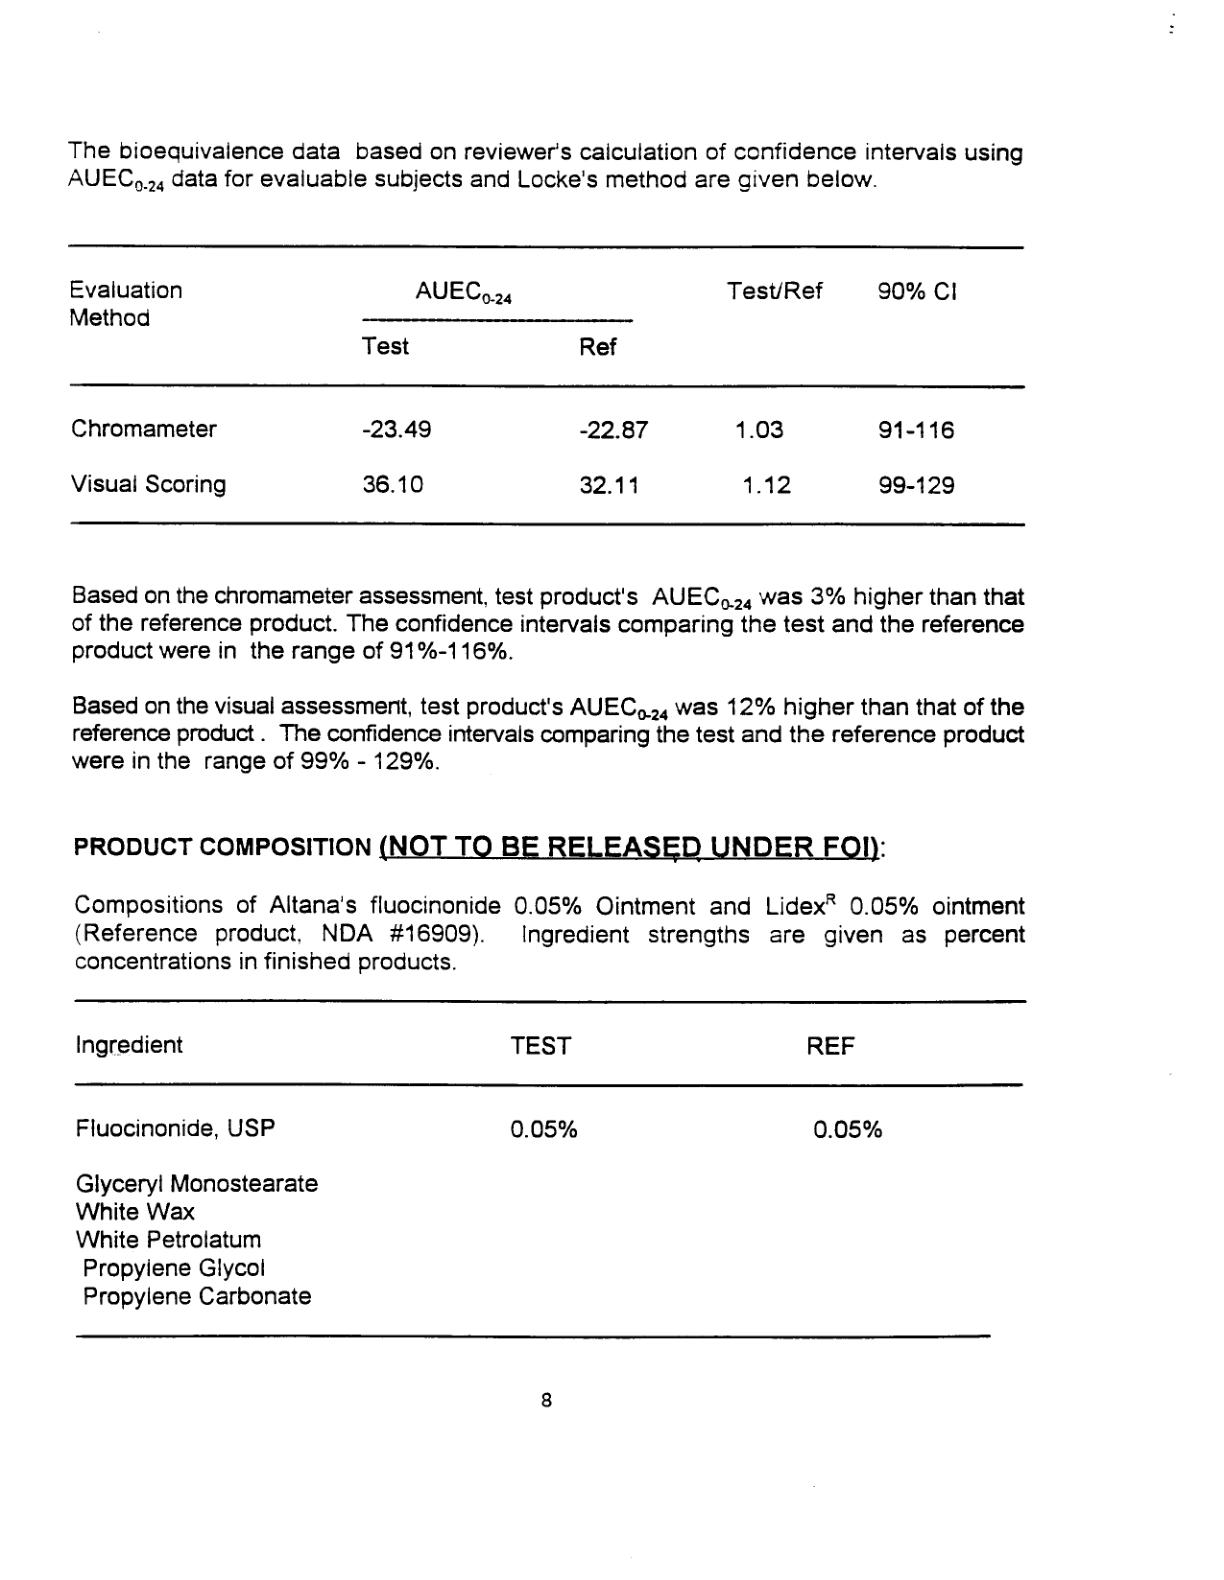partial_lined: (72, 996, 1026, 1340)
partial_lined_merged_cells: (65, 242, 1030, 528)
